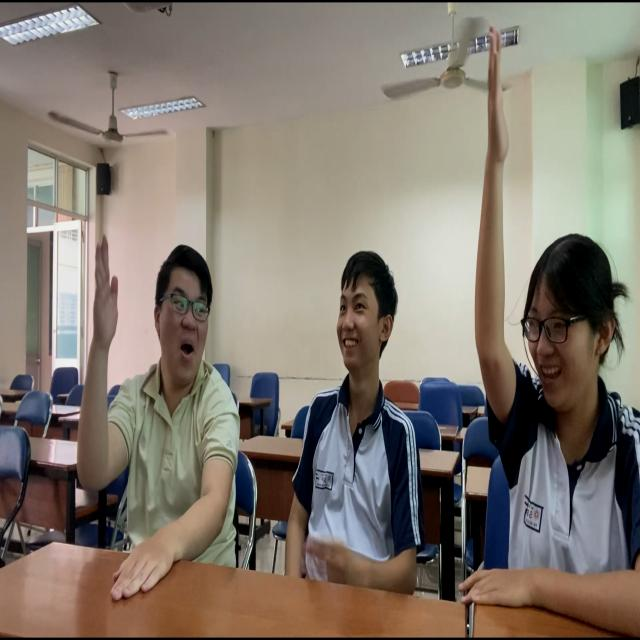raise_hand: (460, 13, 635, 640), (72, 219, 252, 586)
